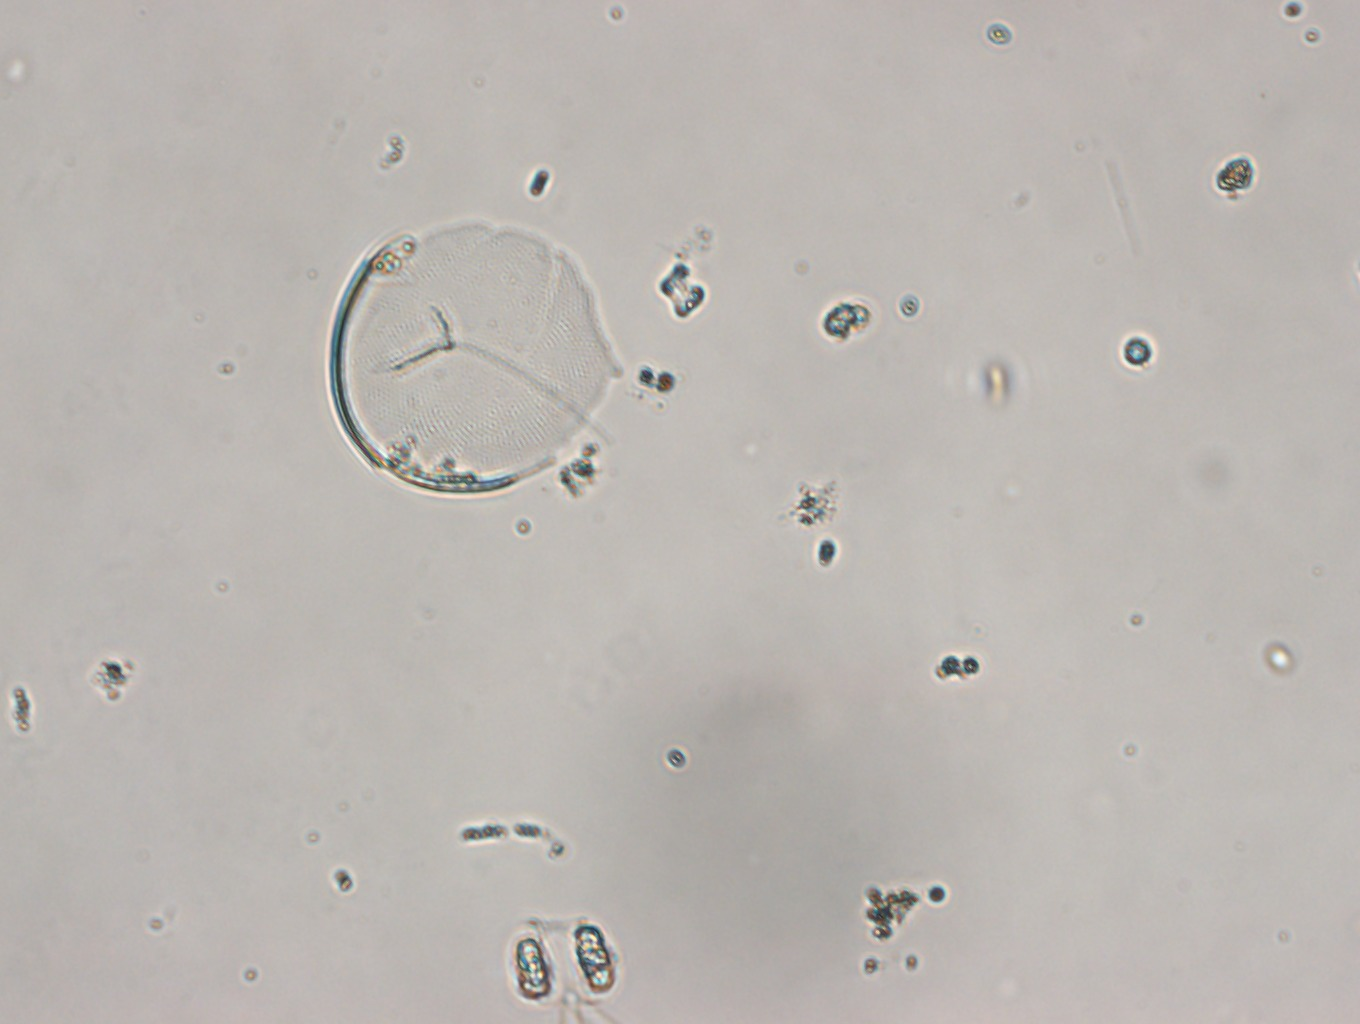coscinodiscus: (319, 214, 630, 499)
